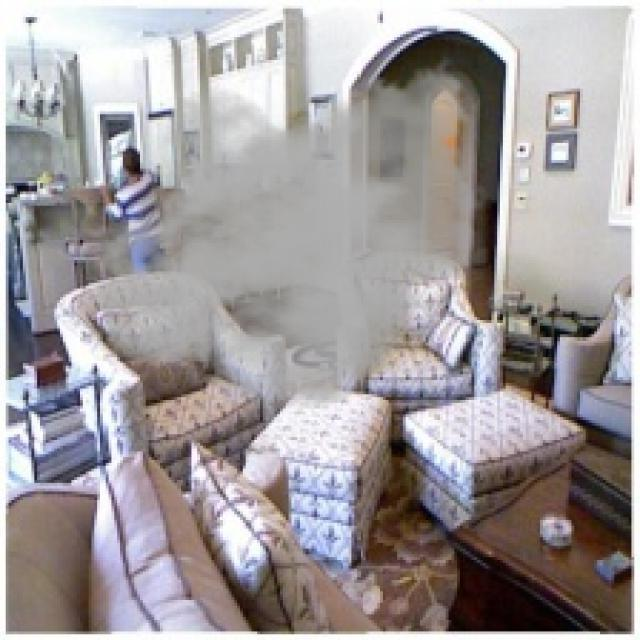Smoke: (71, 51, 492, 412)
